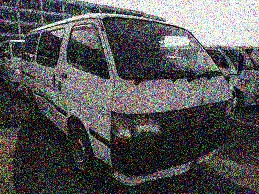van: (20, 13, 236, 179)
